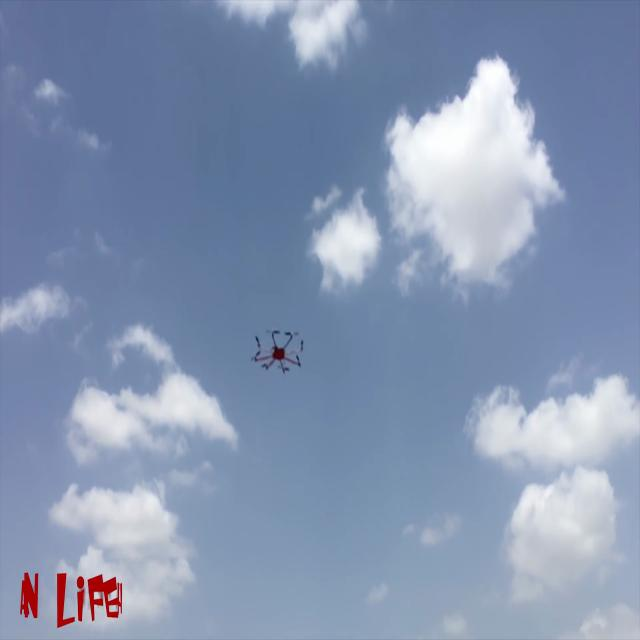drone: (250, 317, 314, 388)
